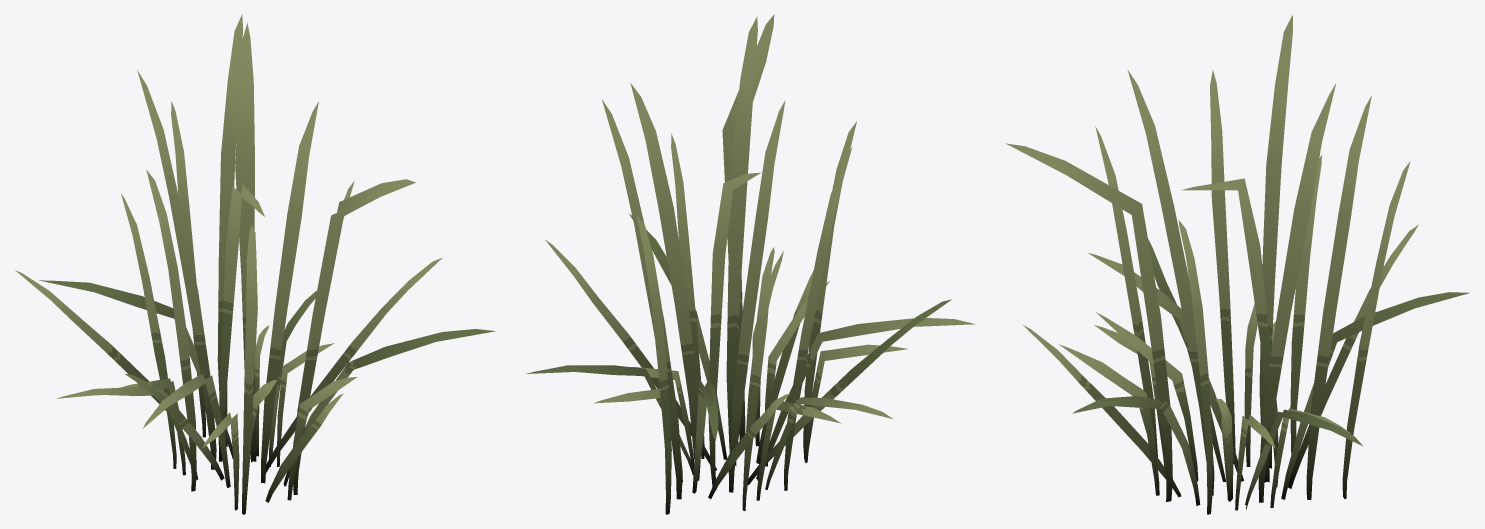
File: reeds-river-fan.glb
3 renders of one model, left to right at view 1: azimuth 30°, elevation 25°; view 2: azimuth 150°, elevation 25°; view 3: azimuth 270°, elevation 25°, orthographic. The views are drawn at different scales.
Visible parts, largest first — view 1: reeds-river-fan runtime mesh; view 2: reeds-river-fan runtime mesh; view 3: reeds-river-fan runtime mesh.
Boxes of the visible parts, <box> form: reeds-river-fan runtime mesh: <box>15,14,496,514</box>; reeds-river-fan runtime mesh: <box>526,14,975,514</box>; reeds-river-fan runtime mesh: <box>1005,15,1469,514</box>.
Size of the model in its own units: 0.9212 by 1 by 0.9533.
1 material, 1 textured.
